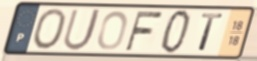0: (159, 9, 192, 55)
F: (123, 10, 166, 52)
O: (30, 7, 68, 51), (96, 9, 130, 52)
T: (197, 12, 226, 54)
U: (60, 7, 104, 53)
